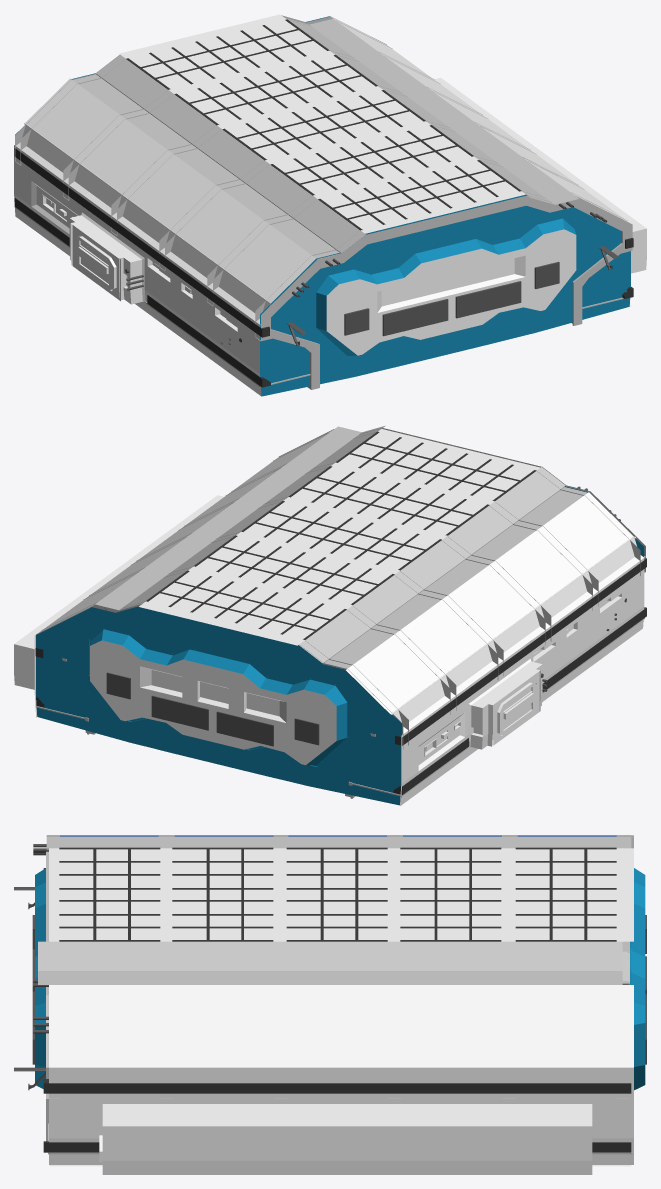
The model's file is hangar.FBX.
3 views of the same model, one above another, from view 1: azimuth 30°, elevation 25°; view 2: azimuth 150°, elevation 25°; view 3: azimuth 270°, elevation 25° (orthographic). The views are drawn at different scales.
Visible parts, largest first — view 1: Plane.006, FrontEntrance, Plane.012, FrontEntrance.001, Plane.007, Plane.009, Plane, Plane.011, Cube.024, FrontEntrance.003, Plane.008; view 2: Plane.006, FrontEntrance, Plane.012, FrontEntrance.002, Plane.009, Plane, Plane.011, Cube.024, Plane.007, FrontEntrance.003, Plane.008; view 3: Plane.006, Plane.009, Plane, Cube.024, Plane.012, FrontEntrance, Plane.007, Plane.015, FrontEntrance.003.
Part boxes in pixels (x1,y1,x2,y2): Plane.006: (14,14,646,396); FrontEntrance: (15,16,630,396); Plane.012: (73,54,365,259); FrontEntrance.001: (326,229,576,355); Plane.007: (15,15,632,389); Plane.009: (285,18,578,204); Plane: (126,19,521,230); Plane.011: (16,125,270,325); Cube.024: (14,148,633,387); FrontEntrance.003: (331,261,559,377); Plane.008: (72,225,120,301); Plane.006: (14,429,644,805); FrontEntrance: (36,486,644,805); Plane.012: (299,467,589,669); FrontEntrance.002: (90,640,336,765); Plane.009: (95,425,385,610); Plane: (146,431,536,639); Plane.011: (392,536,645,734); Cube.024: (35,558,646,794); Plane.007: (36,428,645,797); FrontEntrance.003: (106,672,319,746); Plane.008: (493,669,540,745); Plane.006: (49,835,633,1174); Plane.009: (38,941,622,984); Plane: (59,847,616,941); Cube.024: (43,868,631,1152); Plane.012: (46,835,631,850); FrontEntrance: (35,868,645,1090); Plane.007: (46,851,629,1141); Plane.015: (60,835,616,836); FrontEntrance.003: (32,915,646,1064).
Bounding box in the file's own units: 5173 × 1669 × 5548.
